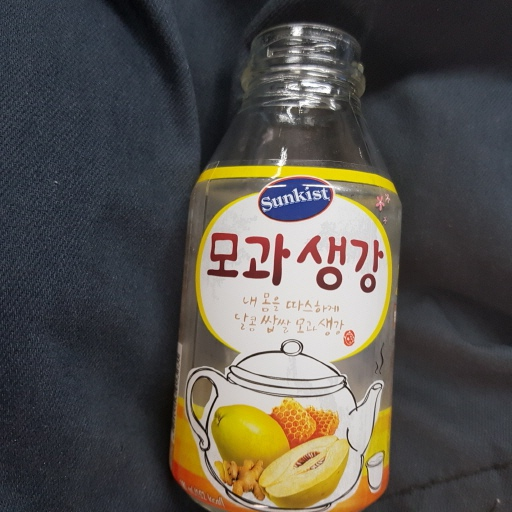Glass_4: (165, 24, 402, 512)
